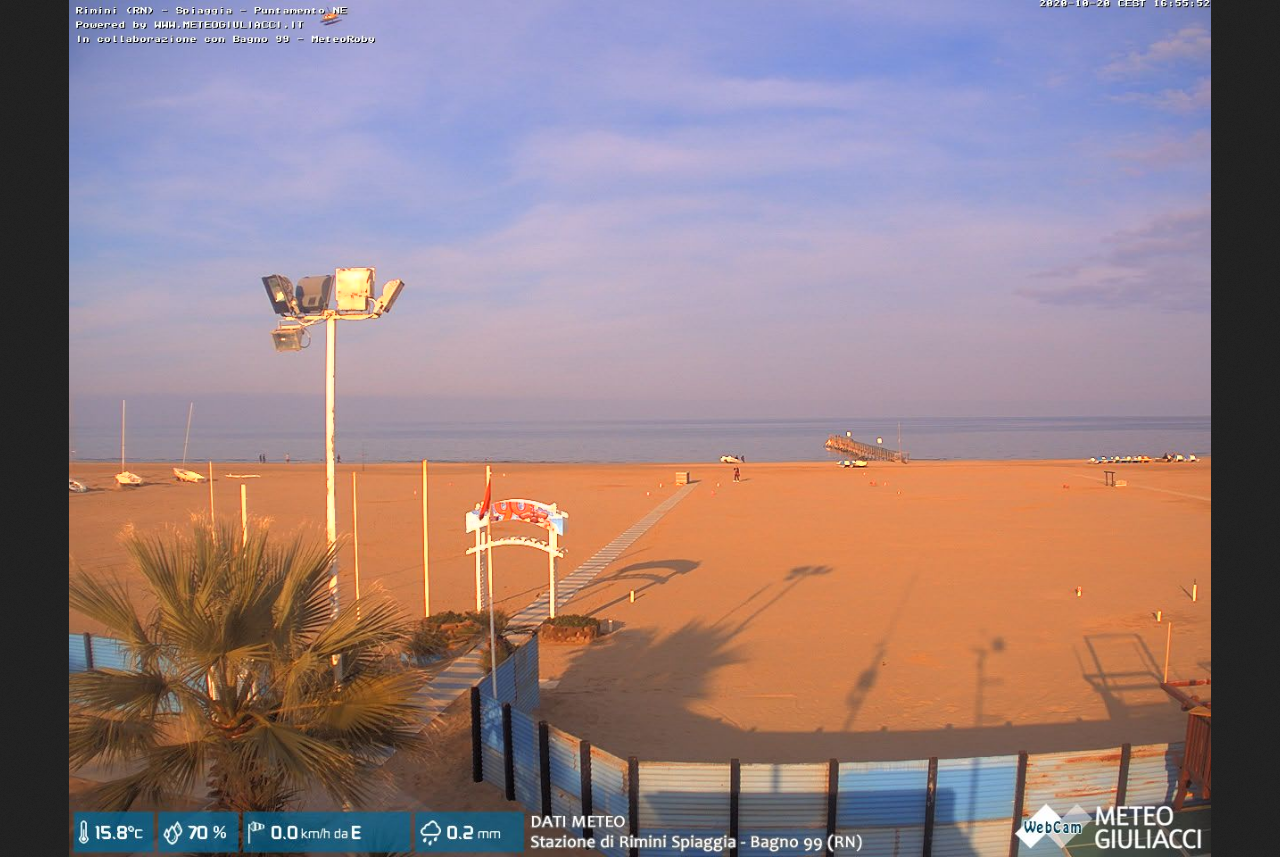no: (474, 474, 493, 521)
